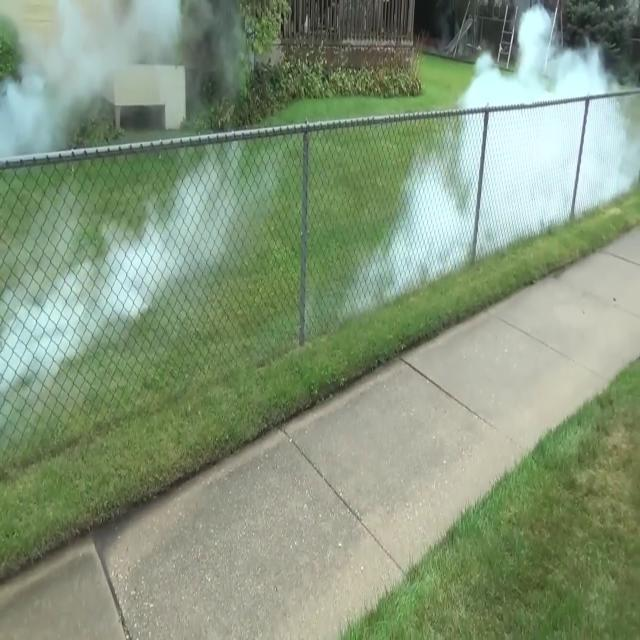Smoke: (355, 3, 626, 298), (15, 134, 254, 388), (0, 0, 254, 150)
